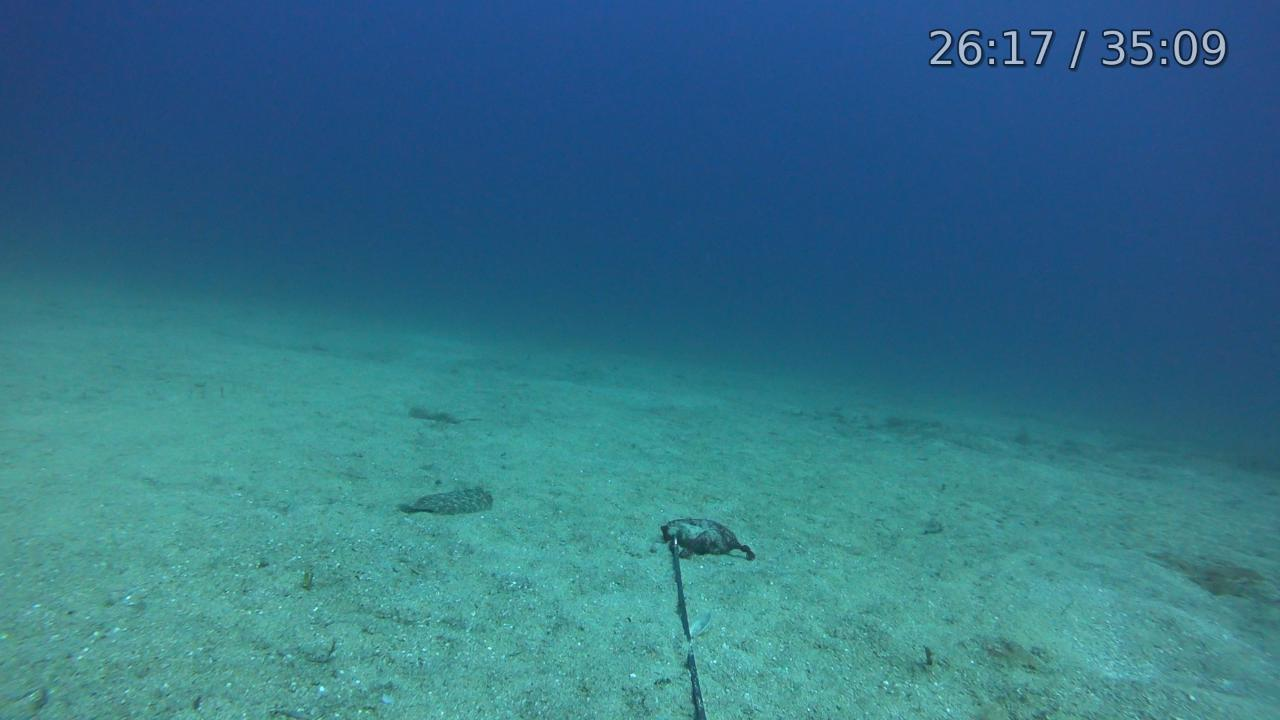bothus: (393, 478, 498, 518)
